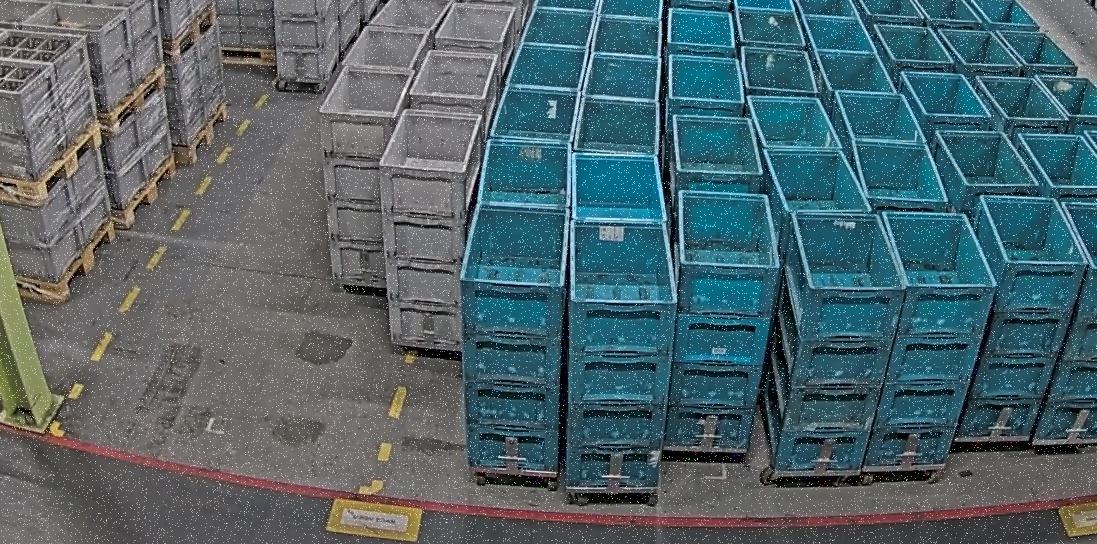4G: (379, 108, 484, 352), (317, 63, 417, 288)
B4: (763, 211, 907, 470), (863, 210, 997, 466), (956, 193, 1086, 439), (663, 190, 782, 452), (459, 203, 572, 474), (565, 220, 678, 488)
